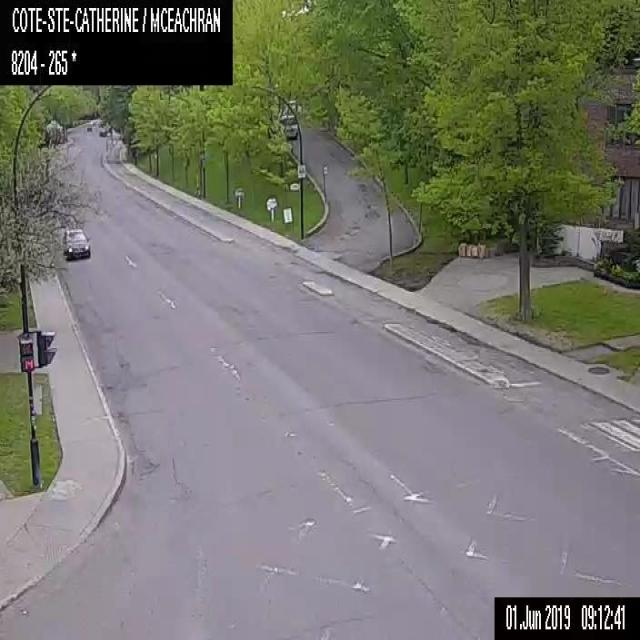vehicle: (64, 224, 91, 259), (279, 98, 298, 138), (99, 127, 109, 136), (86, 123, 92, 130)
